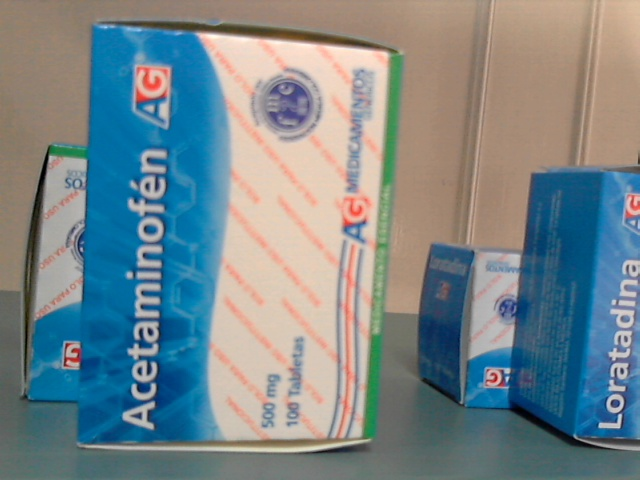AG: (76, 28, 405, 442)
